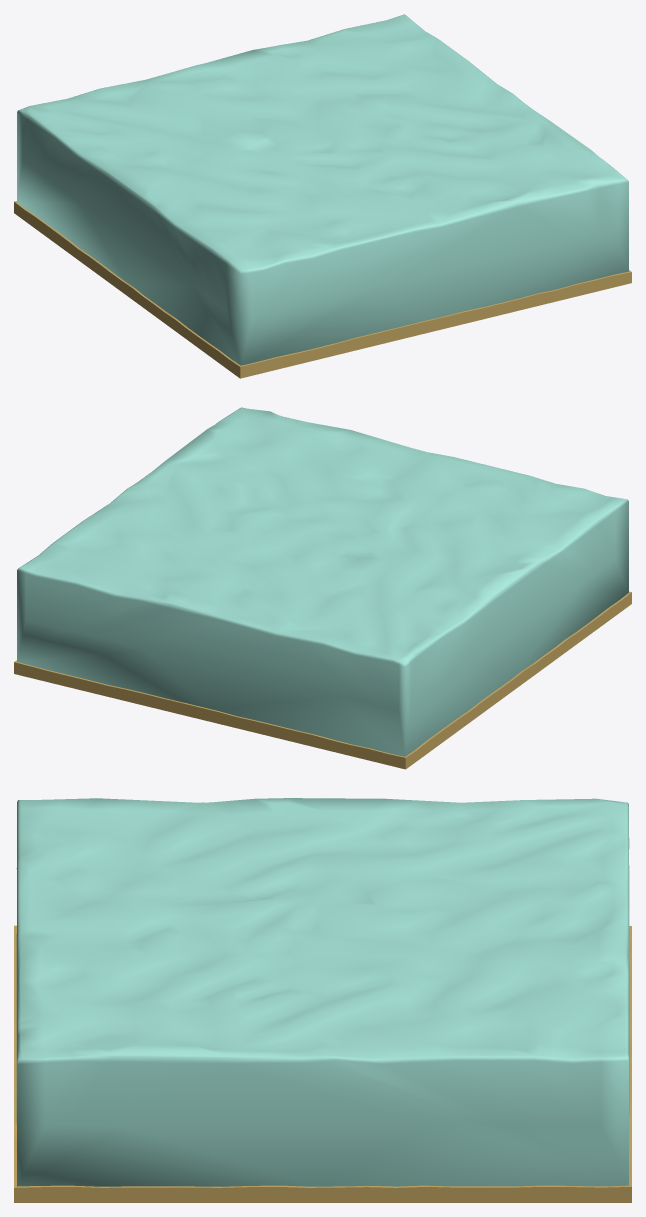
Rendered from Beach_House_Water_01.fbx.
3 views of the same model, one above another, from view 1: azimuth 30°, elevation 25°; view 2: azimuth 150°, elevation 25°; view 3: azimuth 270°, elevation 25° (orthographic). The views are drawn at different scales.
Visible parts, largest first — view 1: Beach_House_Water_01; view 2: Beach_House_Water_01; view 3: Beach_House_Water_01.
Part boxes in pixels (bbox=[...]): Beach_House_Water_01: bbox=[14, 14, 631, 378]; Beach_House_Water_01: bbox=[14, 407, 631, 769]; Beach_House_Water_01: bbox=[14, 798, 631, 1202].
Size of the model in its own units: 24.8 by 6.51 by 24.8.
